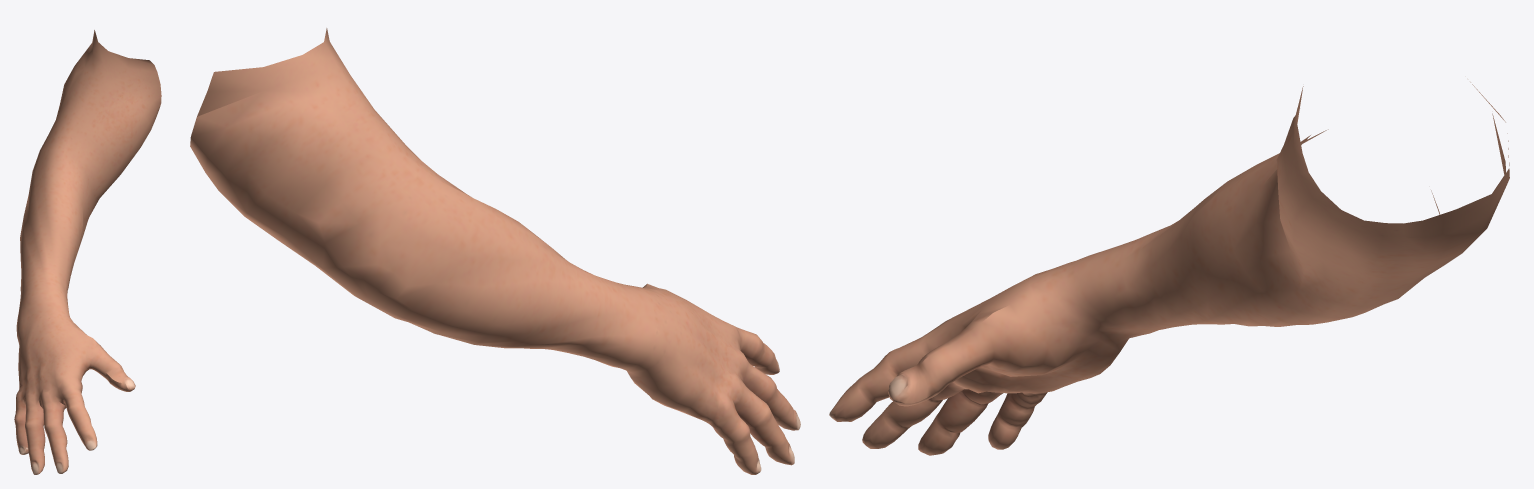
The model's file is game_ready_arm_model.glb.
The picture shows the model from 3 angles, left to right: view 1: azimuth 30°, elevation 25°; view 2: azimuth 150°, elevation 25°; view 3: azimuth 270°, elevation 25°; orthographic projection. The views are drawn at different scales.
Visible parts, largest first — view 1: Object_2; view 2: Object_2; view 3: Object_2.
Boxes of the visible parts, bbox=[...] form: Object_2: bbox=[14, 30, 161, 474]; Object_2: bbox=[190, 28, 800, 474]; Object_2: bbox=[829, 82, 1509, 455].
Bounding box in the file's own units: 179 × 217 × 226.
1 material, 1 textured.
